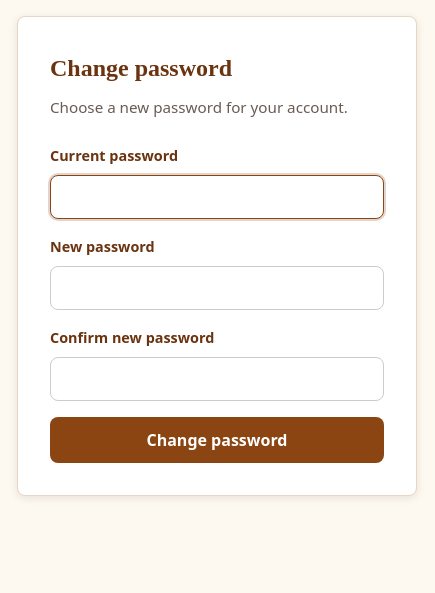
Test: ChangePasswordPage › explains a lockout after too many wrong current passwords
In the password field labelled "Current password": (217, 197) x1=50 y1=175 x2=384 y2=219, type "wrong-password"
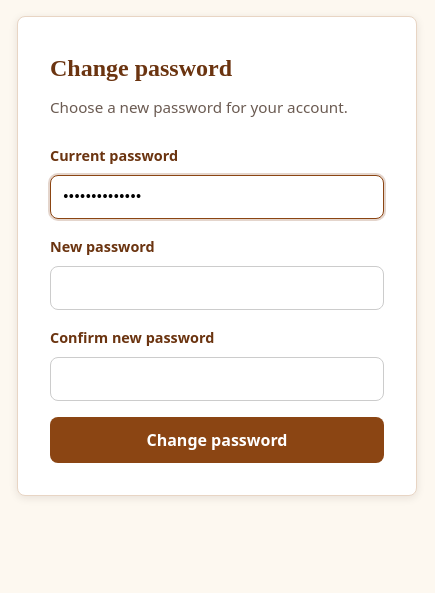
In the password field labelled "New password": (217, 288) x1=50 y1=266 x2=384 y2=310, type "brand-new-pass"
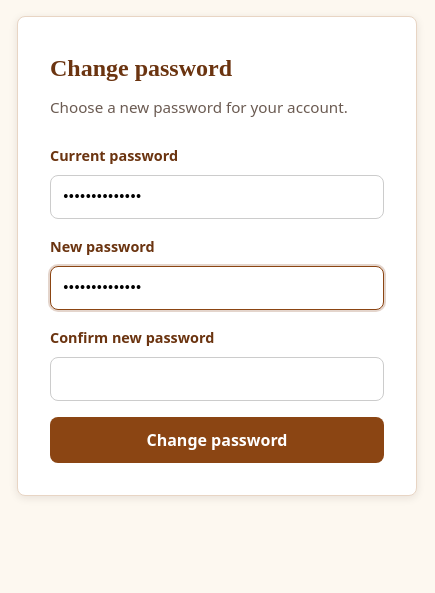
In the password field labelled "Confirm new password": (217, 379) x1=50 y1=357 x2=384 y2=401, type "brand-new-pass"
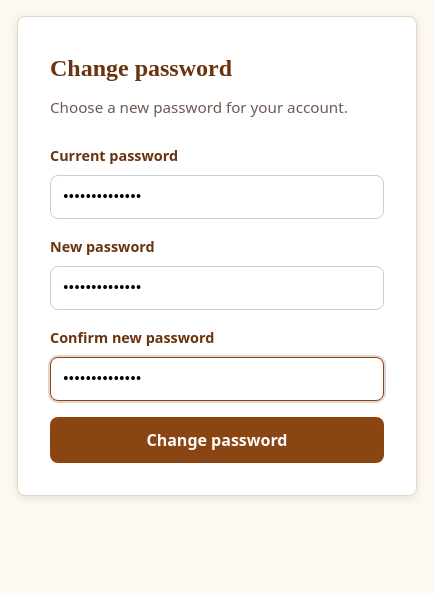
Click the button "Change password": (217, 440) x1=50 y1=417 x2=384 y2=463
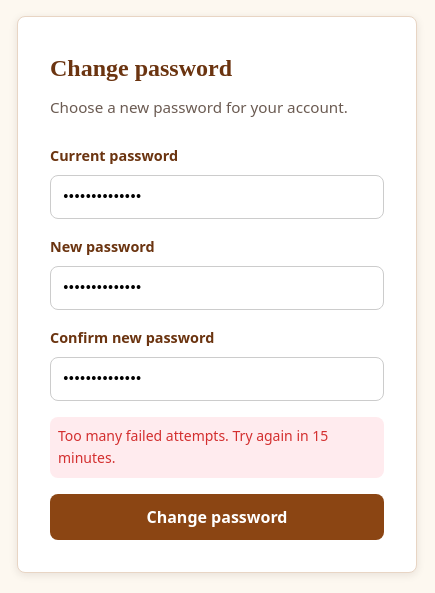
expect the message shows "Too many failed attempts": met, box x1=58 y1=426 x2=328 y2=467
